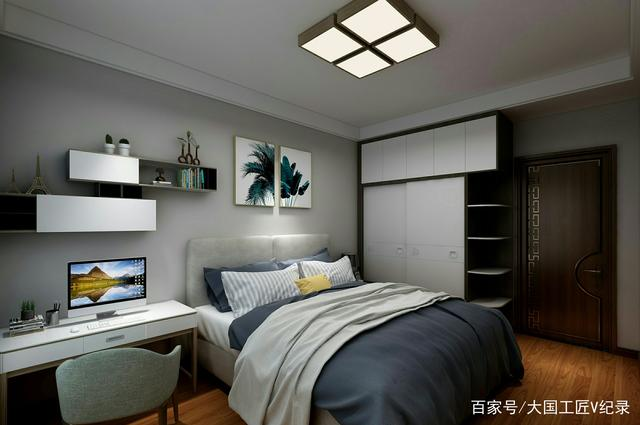床: (185, 277, 530, 420)
枕头: (215, 256, 353, 313)
灯: (296, 6, 438, 80)
